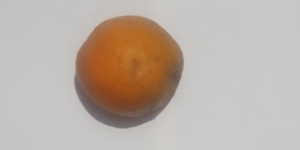BAD: (76, 14, 184, 118)
